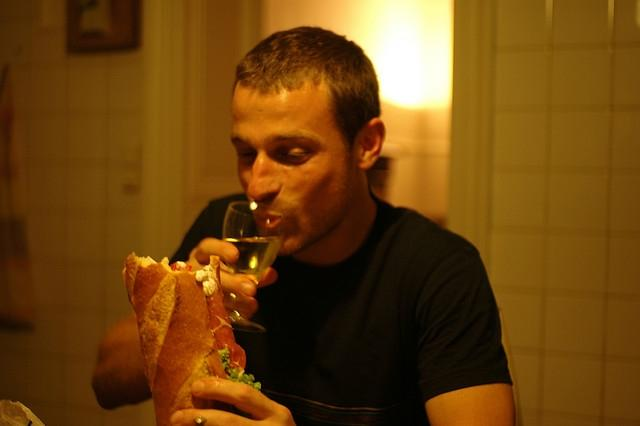lettuce: (232, 373, 262, 392), (218, 346, 230, 372), (225, 366, 238, 381)
